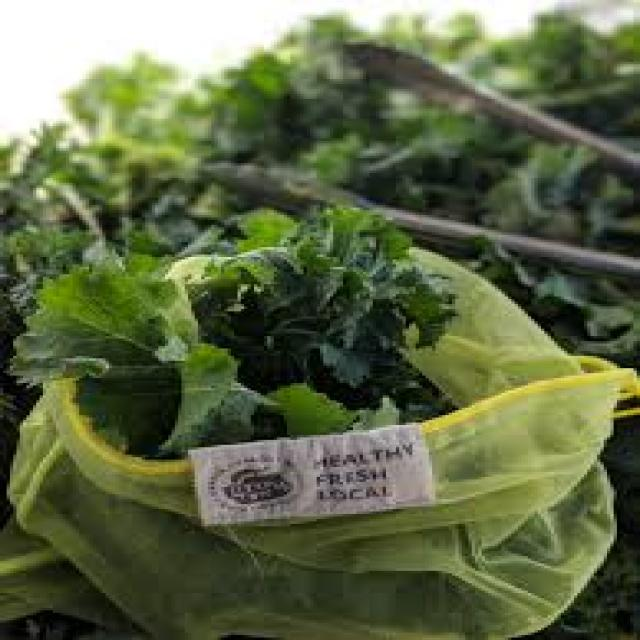organic waste: (66, 5, 637, 361), (0, 121, 271, 395), (185, 198, 455, 430), (7, 227, 260, 455)
